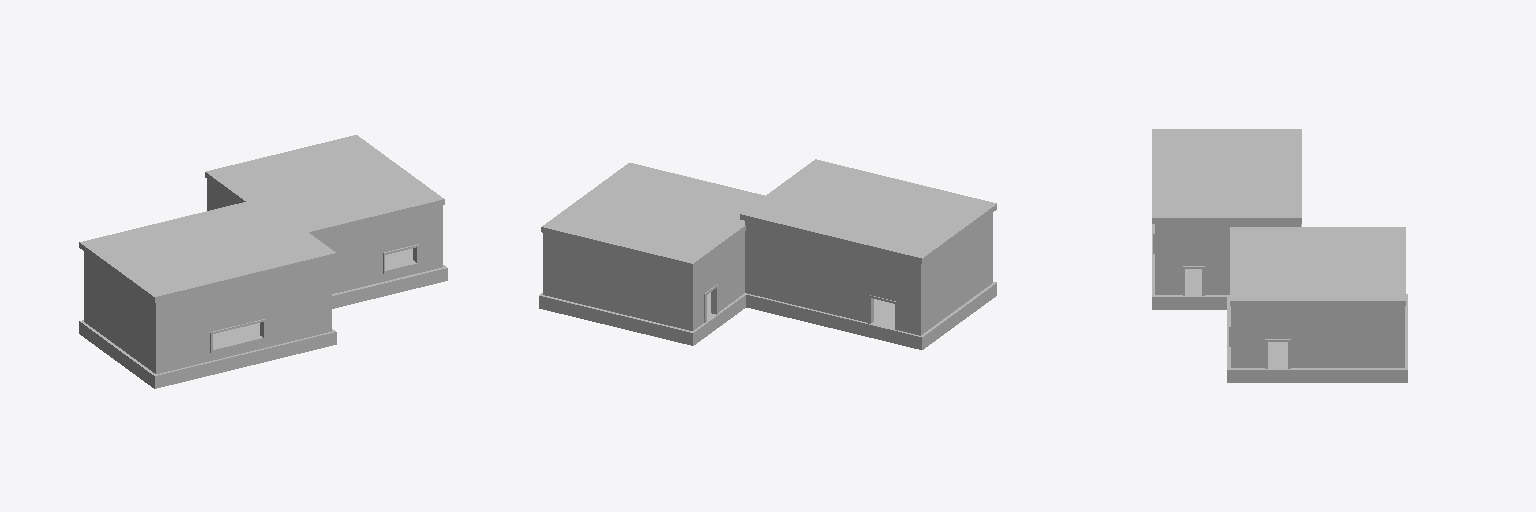
File: Observatory_House_01_LOD2.obj
3 renders of one model, left to right at view 1: azimuth 30°, elevation 25°; view 2: azimuth 150°, elevation 25°; view 3: azimuth 270°, elevation 25°, orthographic.
Visible parts, largest first — view 1: Observatory_House_01_LOD2_0, Observatory_House_01_LOD2_1; view 2: Observatory_House_01_LOD2_0, Observatory_House_01_LOD2_1; view 3: Observatory_House_01_LOD2_0, Observatory_House_01_LOD2_1.
Boxes of the visible parts, <box> form: Observatory_House_01_LOD2_0: <box>79,135,447,388</box>; Observatory_House_01_LOD2_1: <box>210,244,418,352</box>; Observatory_House_01_LOD2_0: <box>539,159,996,349</box>; Observatory_House_01_LOD2_1: <box>704,284,897,330</box>; Observatory_House_01_LOD2_0: <box>1152,129,1407,382</box>; Observatory_House_01_LOD2_1: <box>1153,224,1300,368</box>.
Size of the model in its own units: 26.32 by 6.98 by 17.64.